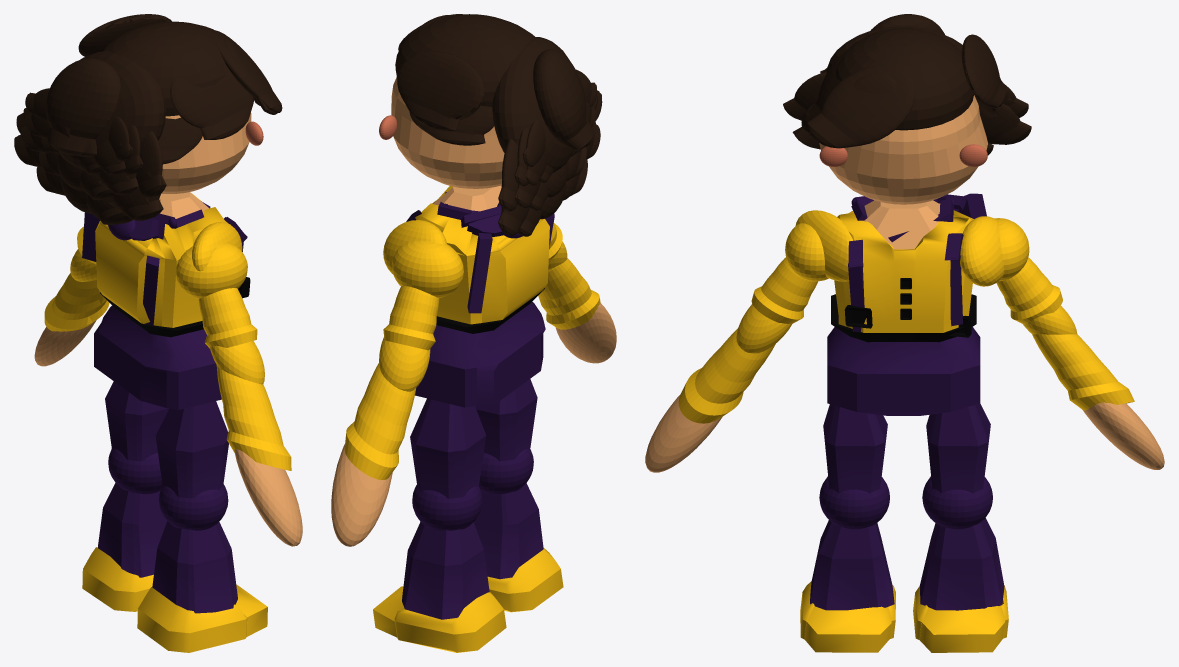
The model's file is player.fbx.
3 views of the same model, side by side, from view 1: azimuth 30°, elevation 25°; view 2: azimuth 150°, elevation 25°; view 3: azimuth 270°, elevation 25° (orthographic).
Parts seen in each view (by area): view 1: Cube.002, Cube.018, Cube.019, Sphere.010, Cube.003, Sphere.025, Sphere.011, Cube.004, Cube.021, Sphere.035, Sphere.003, Sphere.026 (+32 smaller); view 2: Cube.002, Cube.018, Cube.021, Cube.023, Sphere.010, Sphere.011, Sphere, Cube.022, Sphere.036, Cube.019, Sphere.003, Sphere.025 (+23 smaller); view 3: Cube.002, Cube.018, Sphere, Sphere.010, Cube.021, Cube.019, Sphere.008, Cube.023, Cube.003, Sphere.024, Sphere.035, Cube.004 (+21 smaller).
Boxes of the visible parts, <box> form: Cube.002: <box>94,305,221,409</box>; Cube.018: <box>95,194,227,327</box>; Cube.019: <box>152,521,237,613</box>; Sphere.010: <box>102,21,225,116</box>; Cube.003: <box>155,401,228,498</box>; Sphere.025: <box>46,58,120,157</box>; Sphere.011: <box>78,14,254,139</box>; Cube.004: <box>137,584,267,652</box>; Cube.021: <box>97,483,166,577</box>; Sphere.035: <box>216,365,291,470</box>; Sphere.003: <box>59,51,166,170</box>; Sphere.026: <box>234,449,302,546</box>; Cube.002: <box>415,301,545,407</box>; Cube.018: <box>415,186,549,324</box>; Cube.021: <box>402,522,489,619</box>; Cube.023: <box>410,398,486,498</box>; Sphere.010: <box>395,14,534,107</box>; Sphere.011: <box>397,51,484,131</box>; Sphere: <box>391,77,504,188</box>; Cube.022: <box>373,586,506,652</box>; Sphere.036: <box>344,363,416,479</box>; Cube.019: <box>473,483,543,579</box>; Sphere.003: <box>492,37,573,172</box>; Sphere.025: <box>533,49,593,149</box>; Cube.002: <box>827,327,980,415</box>; Cube.018: <box>834,203,973,332</box>; Sphere: <box>819,95,987,204</box>; Sphere.010: <box>835,27,973,130</box>; Cube.021: <box>919,518,1004,610</box>; Cube.019: <box>810,520,894,610</box>; Sphere.008: <box>807,65,915,148</box>; Cube.023: <box>926,403,990,493</box>; Cube.003: <box>823,404,887,493</box>; Sphere.024: <box>795,210,1004,286</box>; Sphere.035: <box>678,328,775,423</box>; Cube.004: <box>800,581,895,652</box>.
Bounding box in the file's own units: 268 × 752 × 603.
